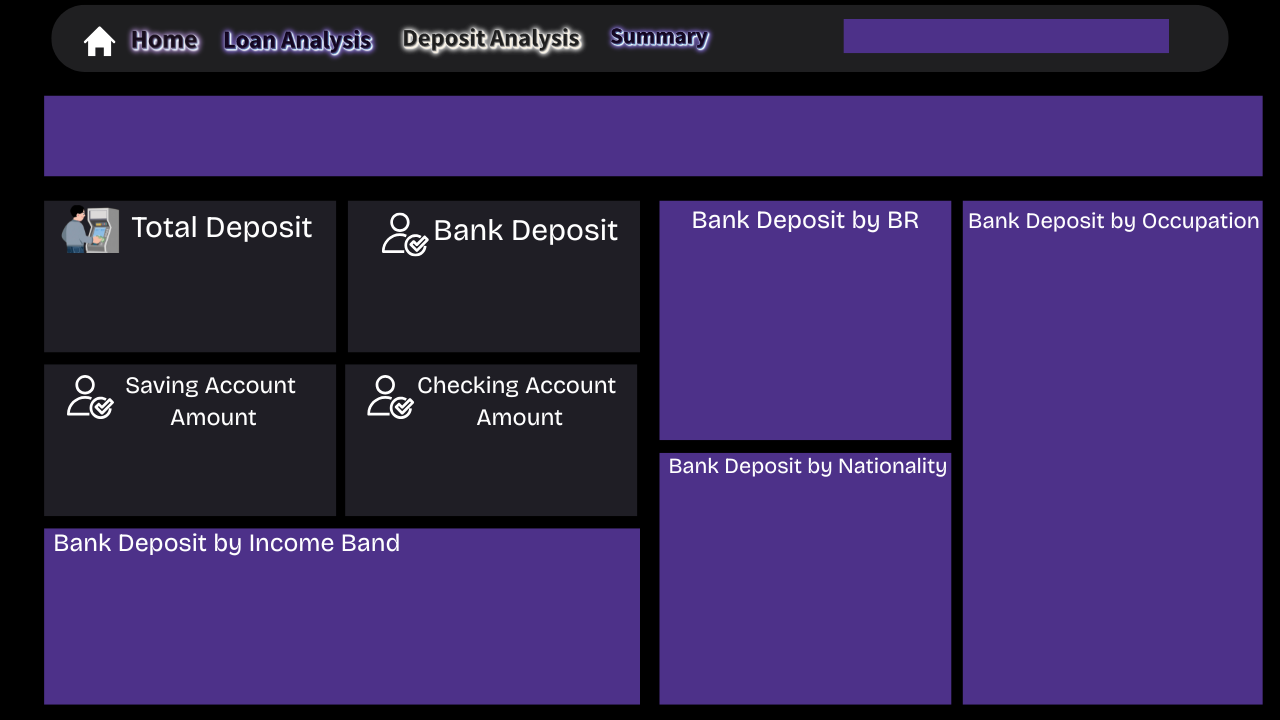

Layout of this report page (visuals, bound fields, positions):
{"tool":"powerbi","page":{"name":"Deposit Analysis","canvas":[1280,720],"ordinal":2},"visuals":[{"type":"cardVisual","fields":{"Data":["Banking.Total Deposits"]},"box":[61,182.9,398.6,193.8],"z":0},{"type":"cardVisual","fields":{"Data":["Banking.Bank Deposits"]},"box":[368.9,203.2,365.7,173.5],"z":1000},{"type":"cardVisual","fields":{"Data":["Banking.Saving Accounts"]},"box":[61,376.7,301.7,171.9],"z":2000},{"type":"cardVisual","fields":{"Data":["Banking.Checking Accounts"]},"box":[362.6,376.7,301.7,171.9],"z":3000},{"type":"donutChart","fields":{"Category":["Banking.Income Band"],"Y":["Banking.Bank Deposits"]},"box":[45.3,562.7,593.9,137.5],"z":4000},{"type":"treemap","fields":{"Group":["Banking.BRId"],"Values":["Banking.Bank Deposits"]},"box":[658,240.7,290.7,196.9],"z":5000},{"type":"columnChart","fields":{"Category":["Banking.Nationality"],"Y":["Banking.Bank Deposits"]},"box":[658,487.7,290.7,212.6],"z":6000},{"type":"barChart","fields":{"Category":["Banking.Occupation"],"Y":["Banking.Bank Deposits"]},"box":[969.1,240.7,289.2,461.1],"z":7000},{"type":"slicer","fields":{"Values":["Banking.BRId"]},"box":[53.1,101.6,497,59.4],"z":8000},{"type":"slicer","fields":{"Values":["Banking.GenderId"]},"box":[572.1,101.6,309.5,59.4],"z":9000},{"type":"slicer","fields":{"Values":["Banking.IAId"]},"box":[898.7,101.6,340.7,59.4],"z":10000},{"type":"slicer","fields":{"Values":["Banking.Year of joining"]},"box":[813.3,11.7,385,53.3],"z":11000}]}

Visuals, with their boxes on the page's 1280x720 design canvas (x1, y1, x2, y2). These are canvas units, not pixel positions in the 1280x720 screenshot, which may show the page scaled, cropped or inside an application window:
cardVisual - Banking.Total Deposits: l=61, t=183, r=460, b=377
cardVisual - Banking.Bank Deposits: l=369, t=203, r=735, b=377
cardVisual - Banking.Saving Accounts: l=61, t=377, r=363, b=549
cardVisual - Banking.Checking Accounts: l=363, t=377, r=664, b=549
donutChart - Banking.Income Band x Banking.Bank Deposits: l=45, t=563, r=639, b=700
treemap - Banking.BRId x Banking.Bank Deposits: l=658, t=241, r=949, b=438
columnChart - Banking.Nationality x Banking.Bank Deposits: l=658, t=488, r=949, b=700
barChart - Banking.Occupation x Banking.Bank Deposits: l=969, t=241, r=1258, b=702
slicer - Banking.BRId: l=53, t=102, r=550, b=161
slicer - Banking.GenderId: l=572, t=102, r=882, b=161
slicer - Banking.IAId: l=899, t=102, r=1239, b=161
slicer - Banking.Year of joining: l=813, t=12, r=1198, b=65
